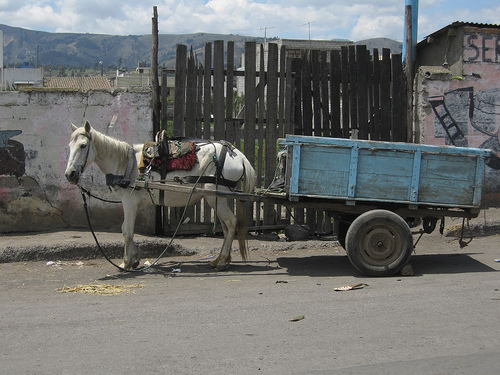horse: (64, 121, 254, 271)
